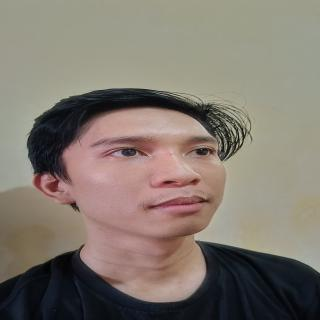Netral: (64, 106, 243, 242)
